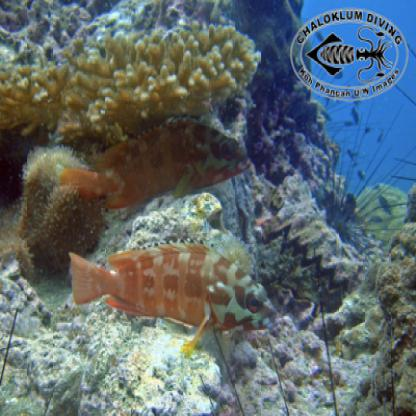Serranidae -Groupers-: (68, 235, 282, 356), (58, 114, 251, 211)
